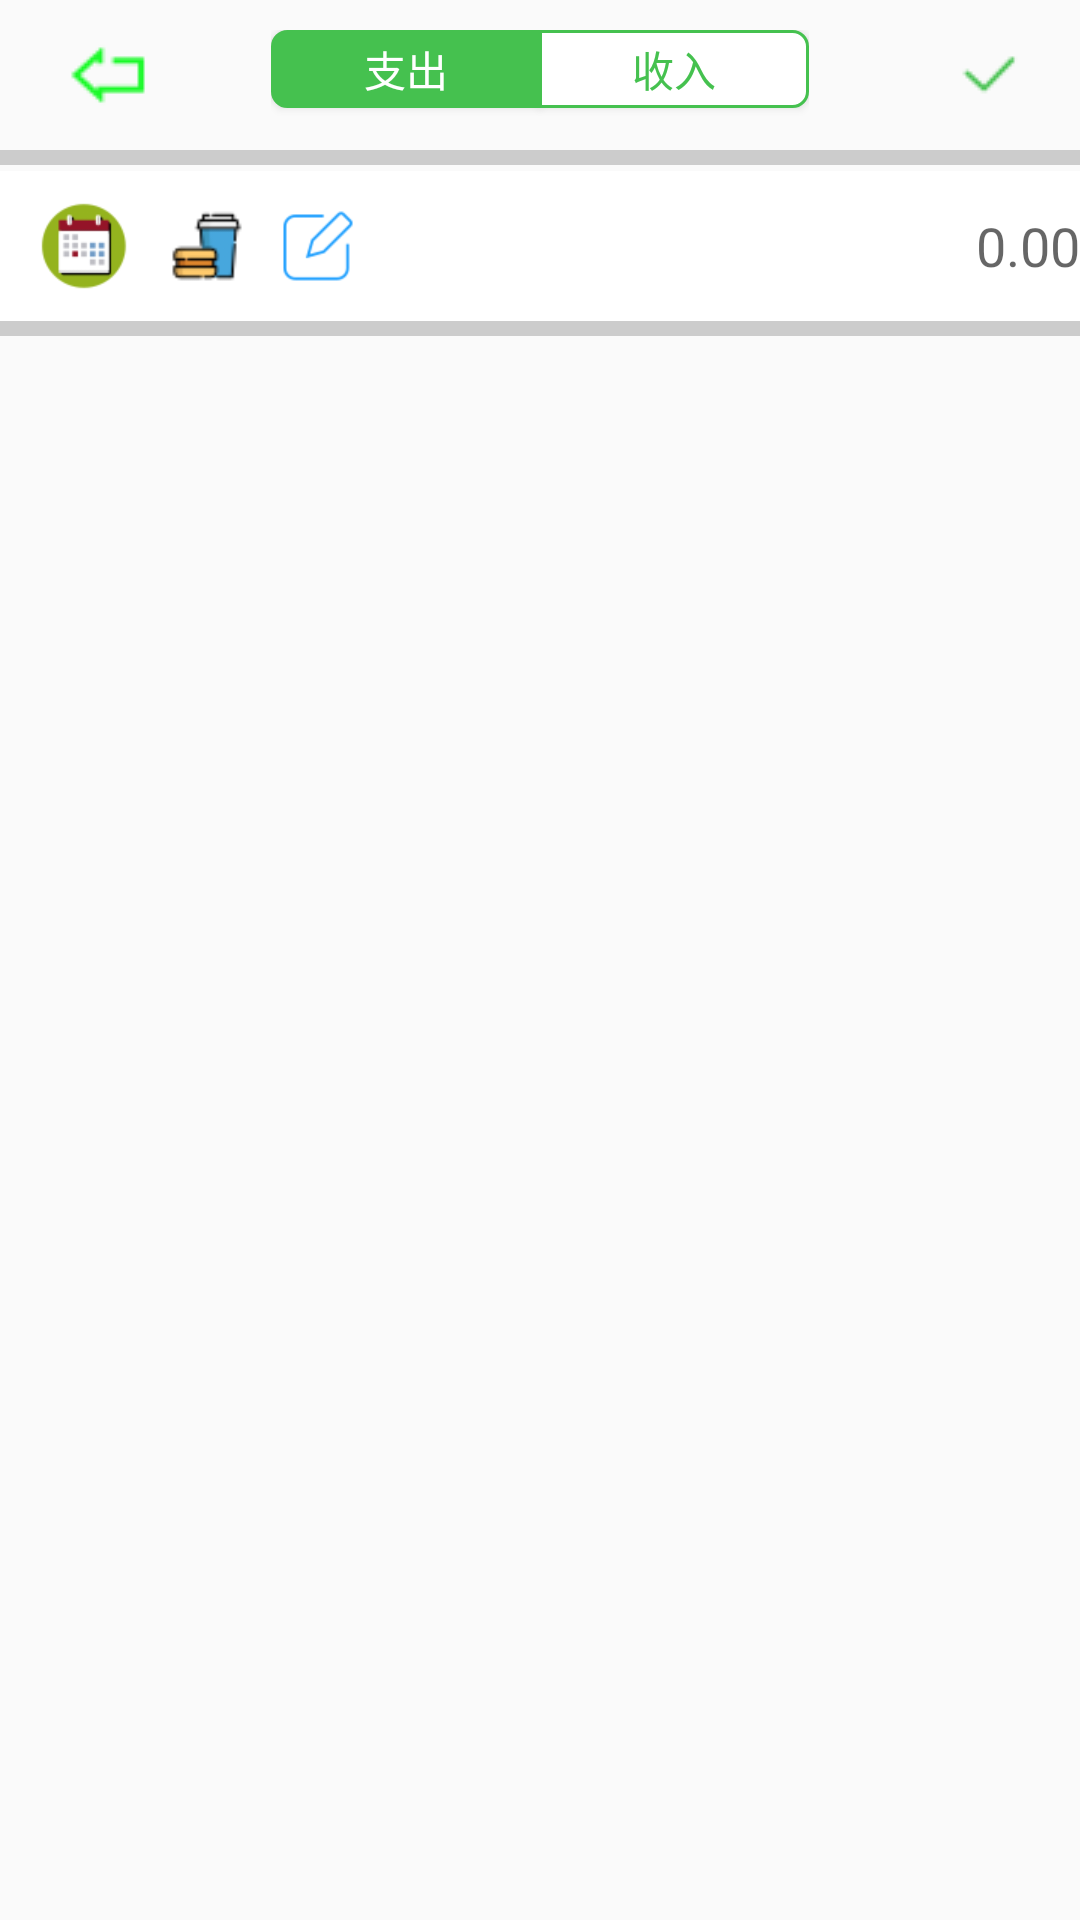

Where icons sit on this 1080x1920 app screen, as [x1, y1, x2, y2]:
back: [71, 47, 145, 103]
cook: [172, 212, 242, 280]
daily: [41, 203, 127, 289]
editso: [283, 211, 353, 281]
